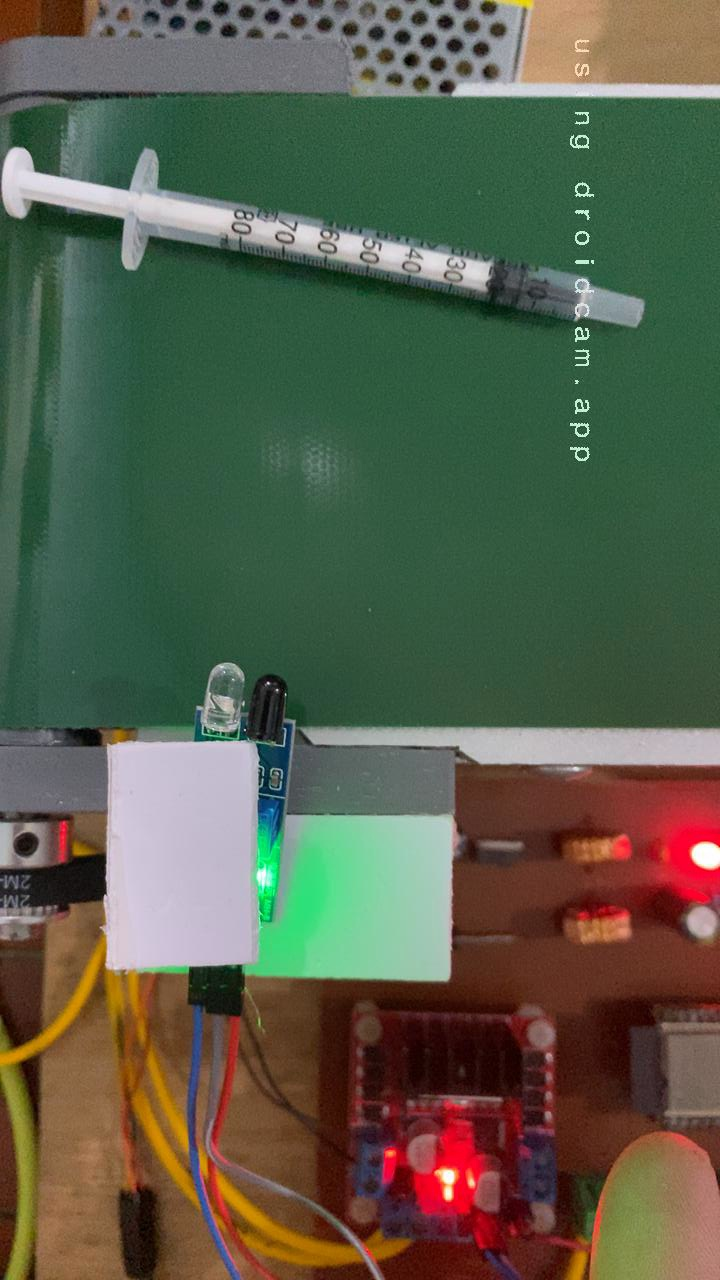syringe: (0, 140, 652, 332)
